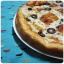olive: (46, 27, 57, 35), (38, 29, 45, 38), (31, 13, 39, 20), (42, 7, 52, 12), (26, 17, 31, 23), (27, 7, 33, 12)
pizza: (17, 1, 64, 55)
